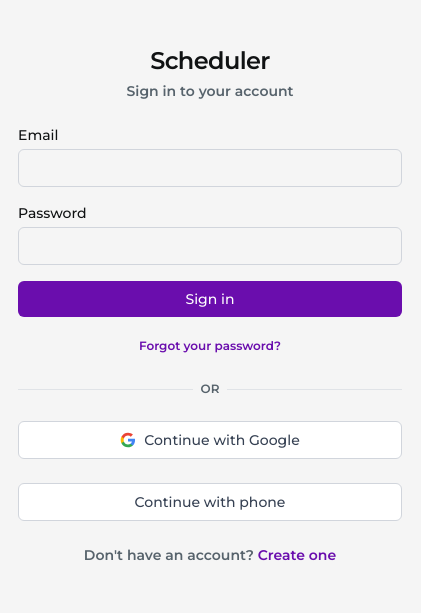
Test: LoginPage › shows a friendly error message on wrong-password failures
Type "ada@example.com" into the field labelled "Email" at (210, 168), box [18,149,402,187]
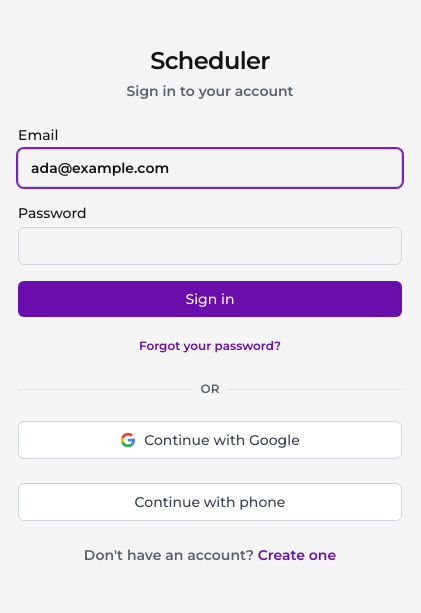
Type "bad" into the password field labelled "Password" at (210, 246), box [18,227,402,265]
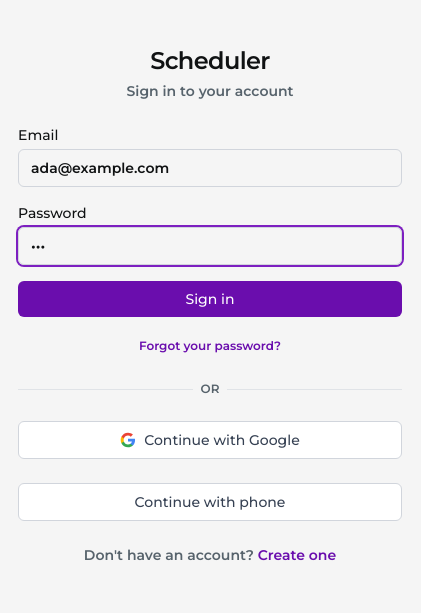
Click the button "Sign in" at (210, 299), box [18,281,402,317]
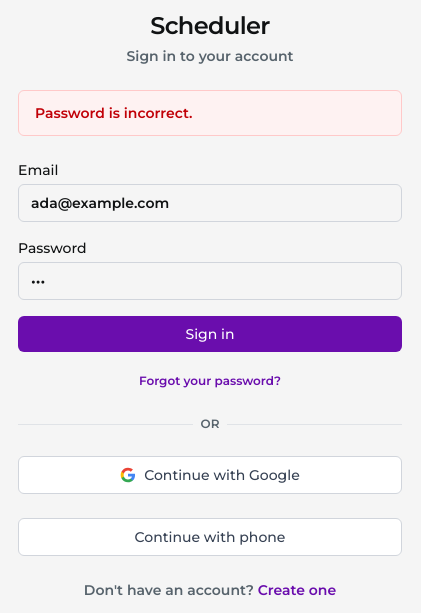
expect the text "Password is incorrect." is shown: met, box [18,90,402,136]
